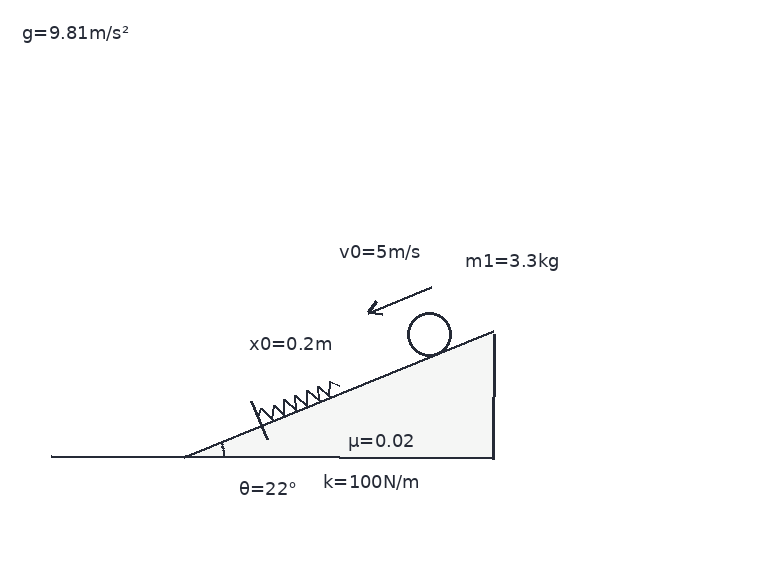ball: (405, 310, 453, 358)
ramp: (182, 330, 496, 459)
spring: (256, 379, 341, 421)
